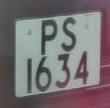1: (23, 55, 36, 97)
3: (53, 53, 75, 92)
4: (73, 45, 92, 92)
6: (34, 55, 55, 95)
P: (38, 17, 59, 56)
S: (58, 15, 81, 52)
